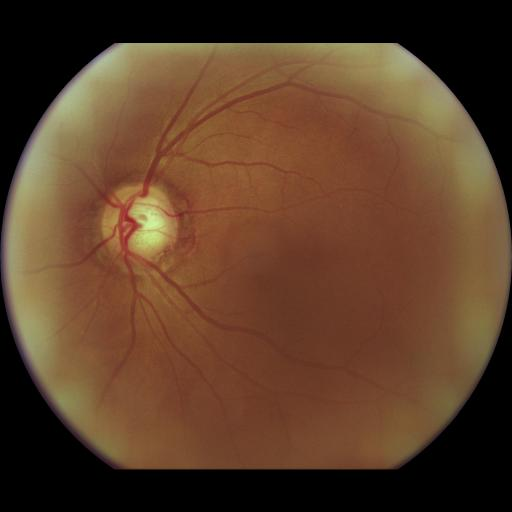Optic Cup: (125, 201, 167, 247)
Optic Disc: (100, 184, 178, 261)
